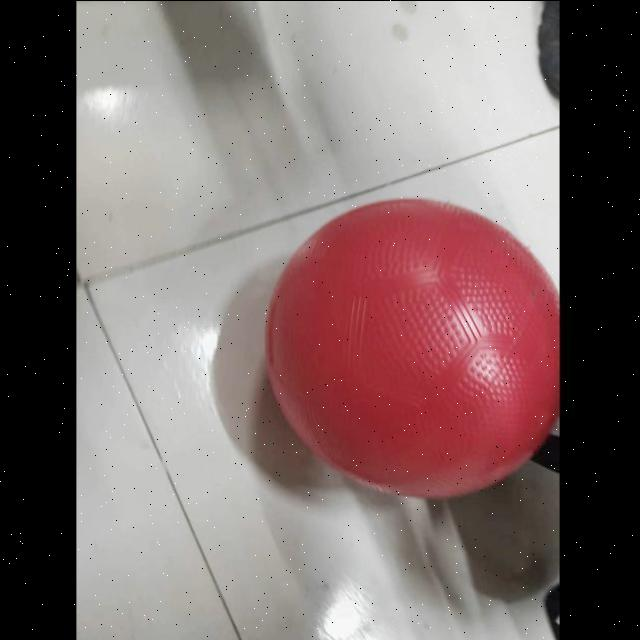R: (265, 194, 559, 514)
